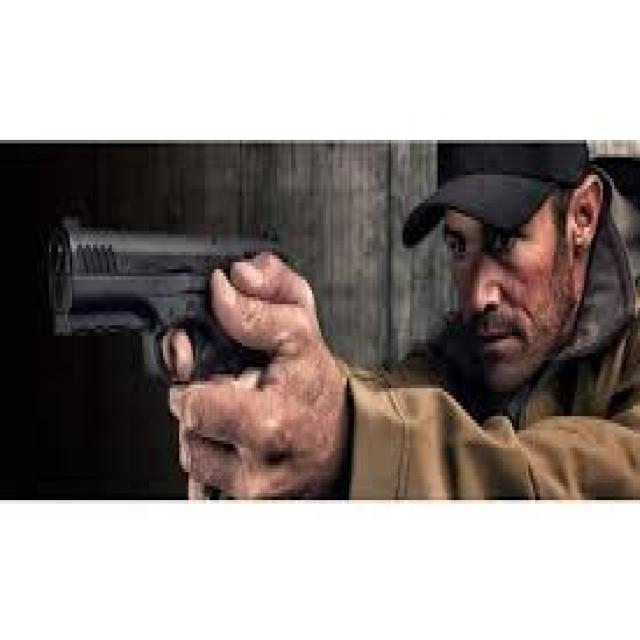Gun: (40, 196, 305, 435)
